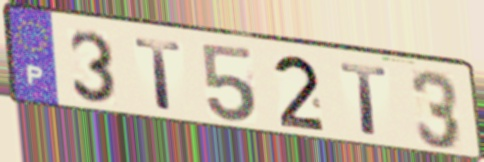2: (271, 53, 327, 133)
3: (409, 66, 462, 152), (66, 29, 118, 106)
5: (201, 42, 260, 124)
T: (337, 61, 392, 139), (131, 35, 186, 113)
